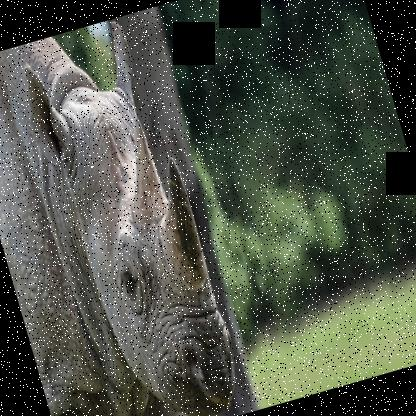Diceros bicornis: (0, 12, 252, 415)
